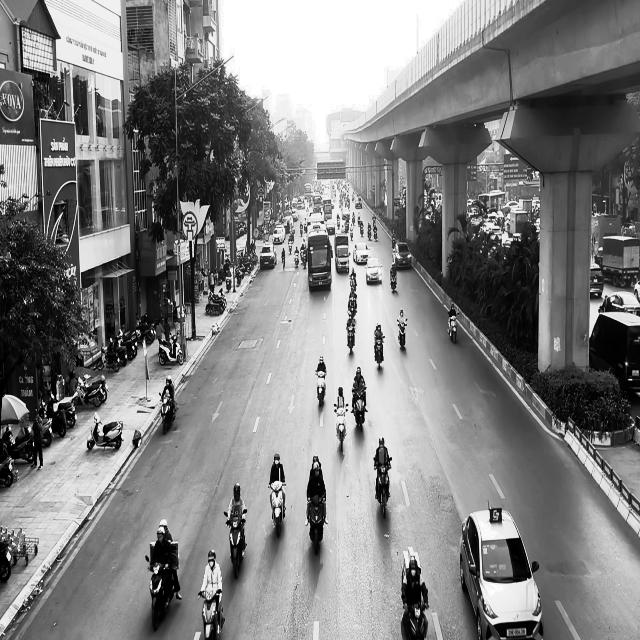car: (459, 501, 544, 639), (598, 291, 640, 316), (392, 242, 412, 268), (590, 263, 604, 298), (259, 243, 277, 269), (365, 257, 382, 284), (353, 242, 370, 264)
motorbike: (146, 540, 179, 631), (223, 508, 247, 579), (198, 588, 225, 639), (87, 412, 123, 450), (305, 494, 327, 555), (401, 599, 428, 640), (374, 458, 392, 518), (268, 481, 286, 538), (158, 391, 178, 434), (158, 333, 184, 365), (333, 402, 348, 452), (351, 387, 367, 431), (315, 370, 326, 406), (374, 336, 385, 370), (447, 309, 458, 343), (346, 318, 356, 354), (397, 317, 407, 349), (390, 262, 397, 292)
